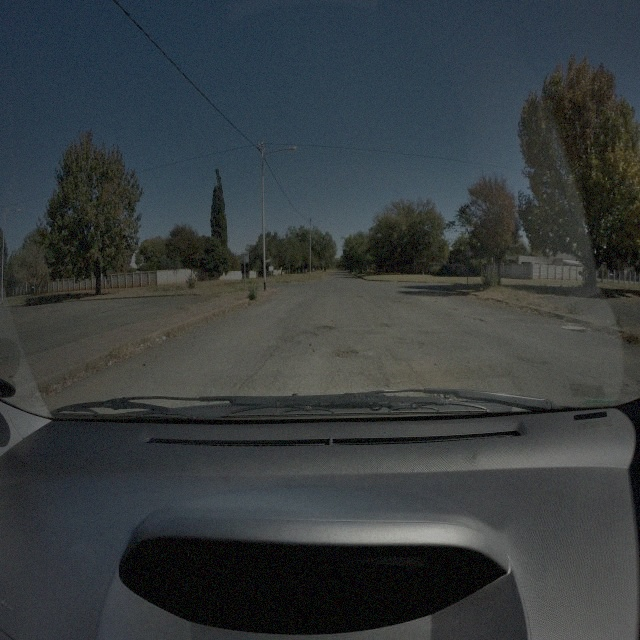pothole: (335, 346, 359, 359), (317, 323, 337, 333)
